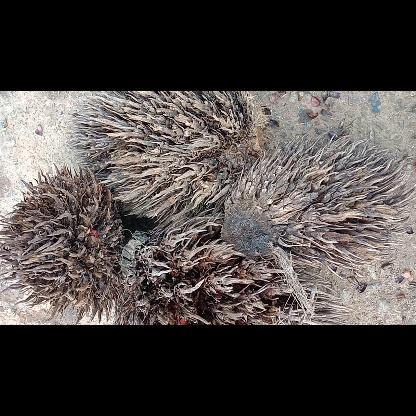Janjang kosong: (220, 133, 414, 269), (67, 90, 263, 224), (119, 218, 348, 324), (0, 162, 123, 324)
